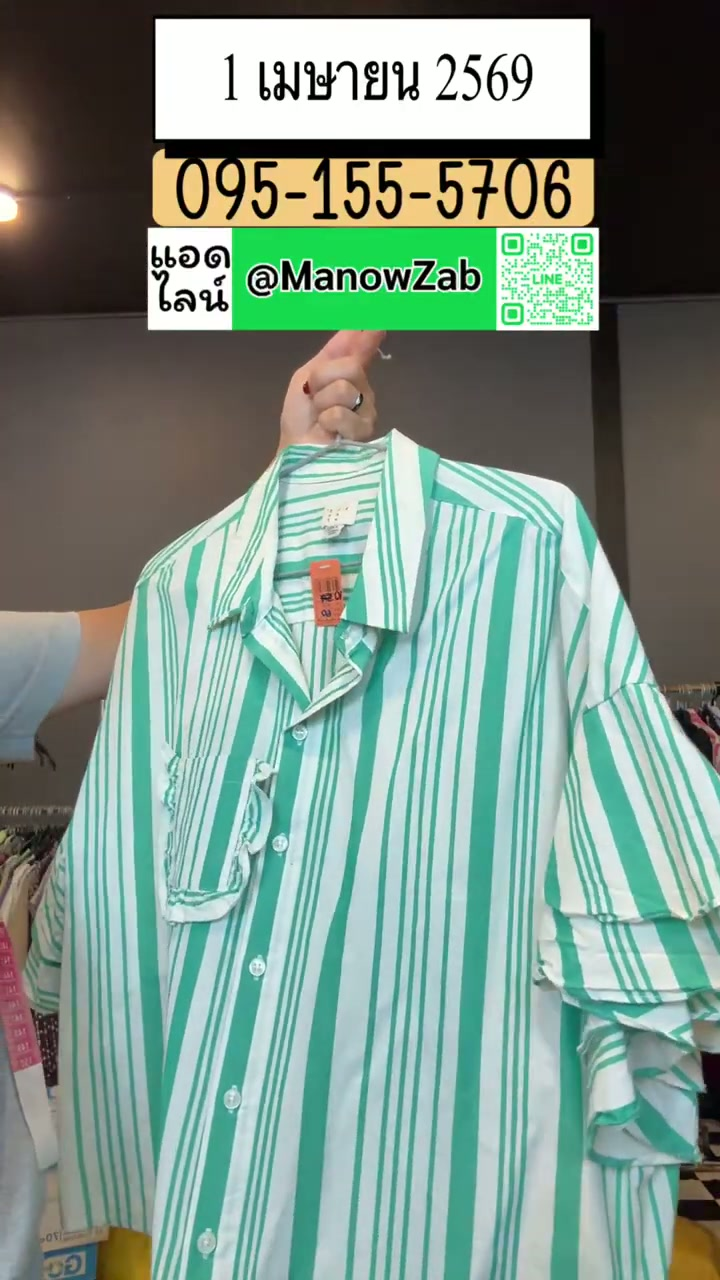display_shirt: (28, 430, 719, 1279)
